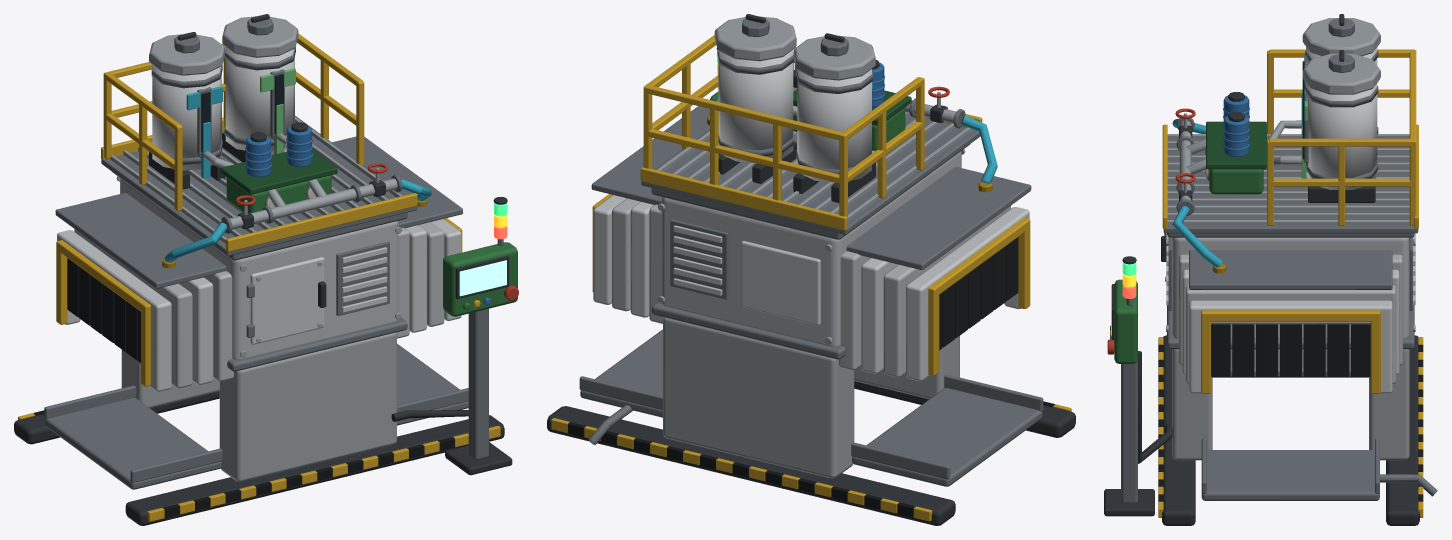
File: hydrowash.glb
The picture shows the model from 3 angles, left to right: view 1: azimuth 30°, elevation 25°; view 2: azimuth 150°, elevation 25°; view 3: azimuth 270°, elevation 25°; orthographic projection. The views are drawn at different scales.
Parts seen in each view (by area): view 1: block.055, block.057, block.049, block.101, block.125, block.001, block.060, cyl.006, cyl.001, block.173, block.124, block.139 (+51 smaller); view 2: block.056, block.057, block.049, block.101, block.125, block.025, cyl.006, cyl.001, block.078, block.140, block.124, block.052 (+47 smaller); view 3: block.052, block.124, block.125, cyl.006, block.057, block.113, block.056, block.055, block.025, block.001, block.110, block.173 (+51 smaller).
Part boxes in pixels (box(x1,y1,x2,y2)): block.055: box(219, 332, 396, 481); block.057: box(120, 178, 398, 359); block.049: box(45, 398, 221, 489); block.101: box(55, 192, 226, 288); block.125: box(101, 115, 417, 255); block.001: box(125, 415, 504, 525); block.060: box(250, 257, 324, 344); cyl.006: box(225, 47, 294, 151); cyl.001: box(152, 65, 221, 170); block.173: box(468, 308, 488, 458); block.124: box(332, 136, 462, 228); block.139: box(226, 193, 417, 251); block.056: box(663, 317, 854, 478); block.057: box(661, 151, 961, 346); block.049: box(852, 388, 1042, 486); block.101: box(846, 166, 1031, 269); block.125: box(641, 115, 980, 234); block.025: box(547, 406, 955, 525); cyl.006: box(718, 50, 793, 163); cyl.001: box(797, 69, 871, 182); block.078: box(741, 241, 820, 325); block.140: box(640, 167, 847, 230); block.124: box(591, 106, 709, 204); block.052: box(580, 329, 662, 417); block.052: box(1201, 450, 1379, 500); block.124: box(1189, 250, 1392, 289); block.125: box(1163, 139, 1418, 233); cyl.006: box(1306, 83, 1377, 189); block.057: box(1172, 237, 1409, 338); block.113: box(1189, 300, 1392, 324); block.056: box(1369, 349, 1409, 460); block.055: box(1172, 349, 1212, 460); block.025: box(1386, 335, 1419, 525); block.001: box(1162, 335, 1195, 525); block.110: box(1185, 285, 1395, 306); block.173: box(1121, 360, 1137, 502).
Bounding box in the file's own units: 2.5 × 2.59 × 1.97.
